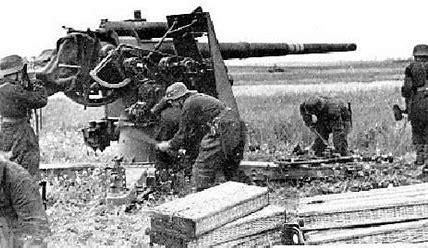MIL_SPG: (36, 8, 355, 188)
